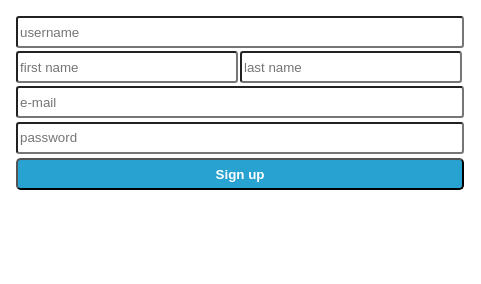
Scenario: App › render register error message
The width and height of the screenshot is (481, 284).
Step 1. Click the button "Sign up" → [240, 174], box [16,158,464,190]
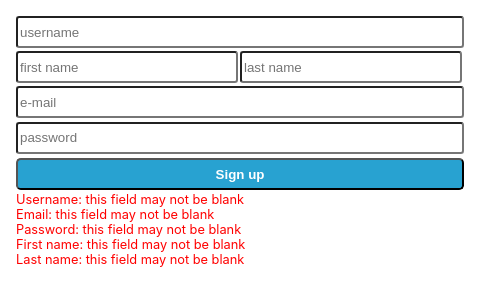
Now the text "Username: this field may not be blank" is shown, box [16,192,244,207]
Now the text "Email: this field may not be blank" is shown, box [16,207,214,222]
Now the text "Password: this field may not be blank" is shown, box [16,222,241,237]
